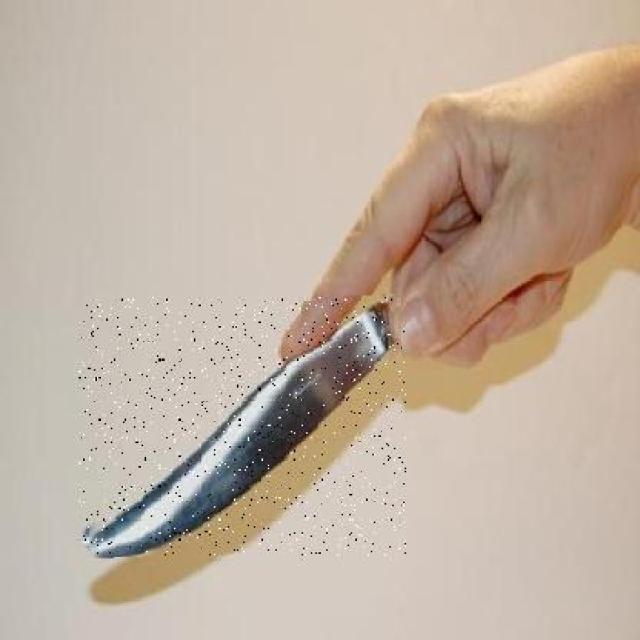knife: (79, 296, 406, 556)
